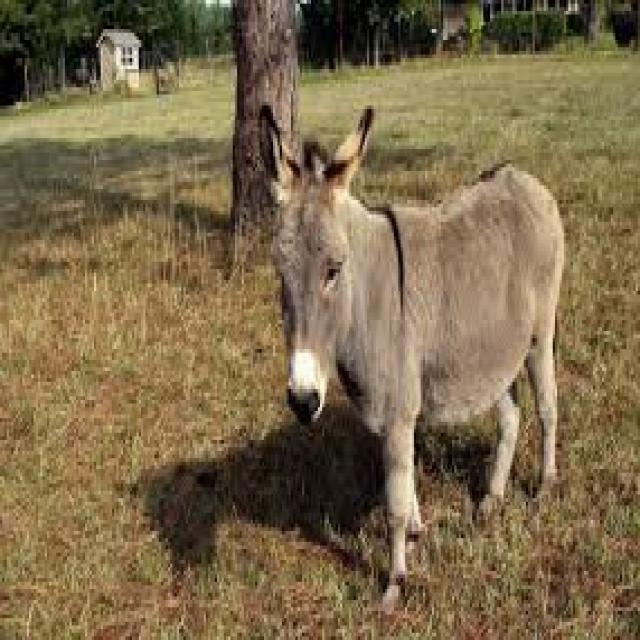donkey: (264, 102, 566, 604)
